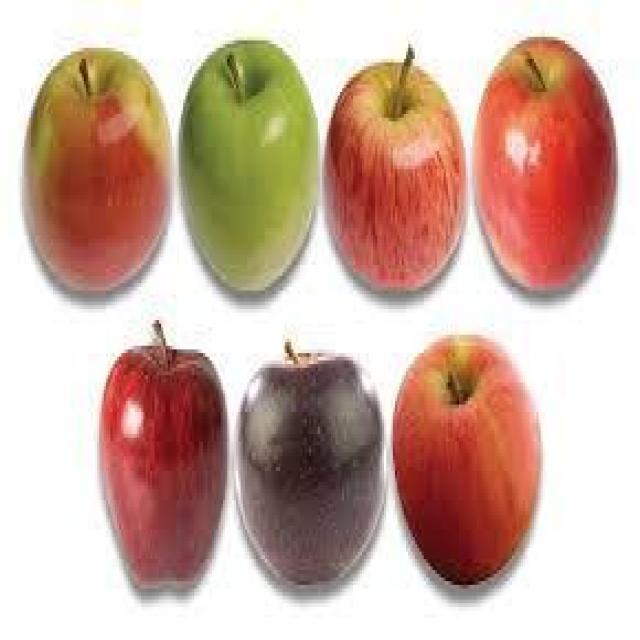maca: (468, 17, 620, 300), (235, 324, 387, 601), (16, 35, 174, 296), (170, 30, 322, 296), (392, 339, 551, 593), (88, 321, 232, 593), (320, 48, 469, 297)
